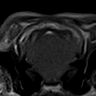Brain: (25, 31, 76, 81)
